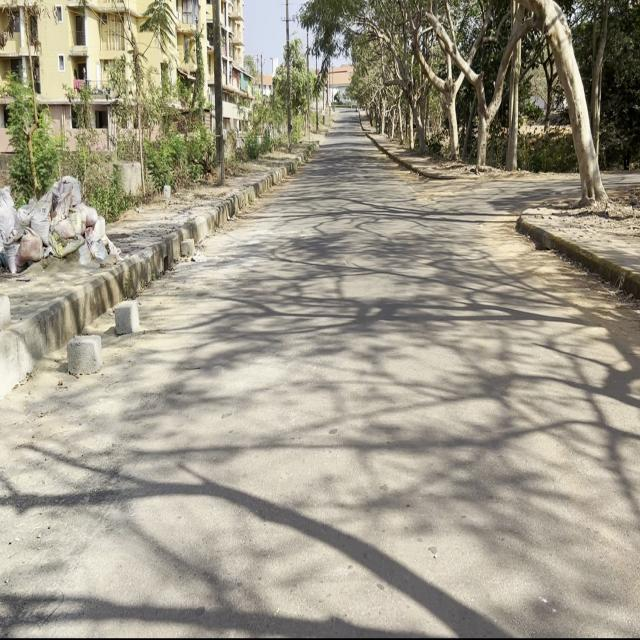Road: (3, 119, 634, 630)
